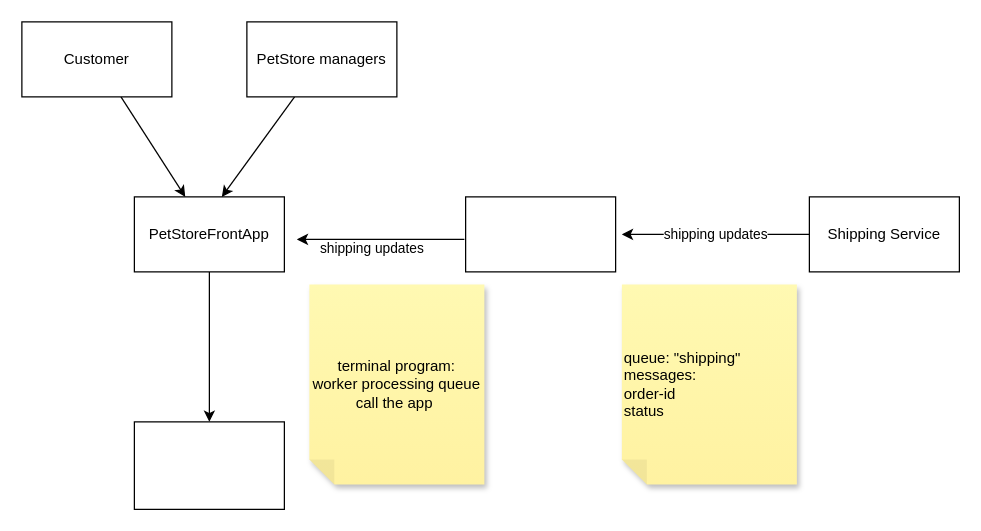
Image size: 981x531. Some labels were removed from this diagram. Each missing label, with the centre of its shape:
"Message Queue (RabbitMQ)" belongs at pixel 540 234.
"SQL Database: products orders" belongs at pixel 208 465.
